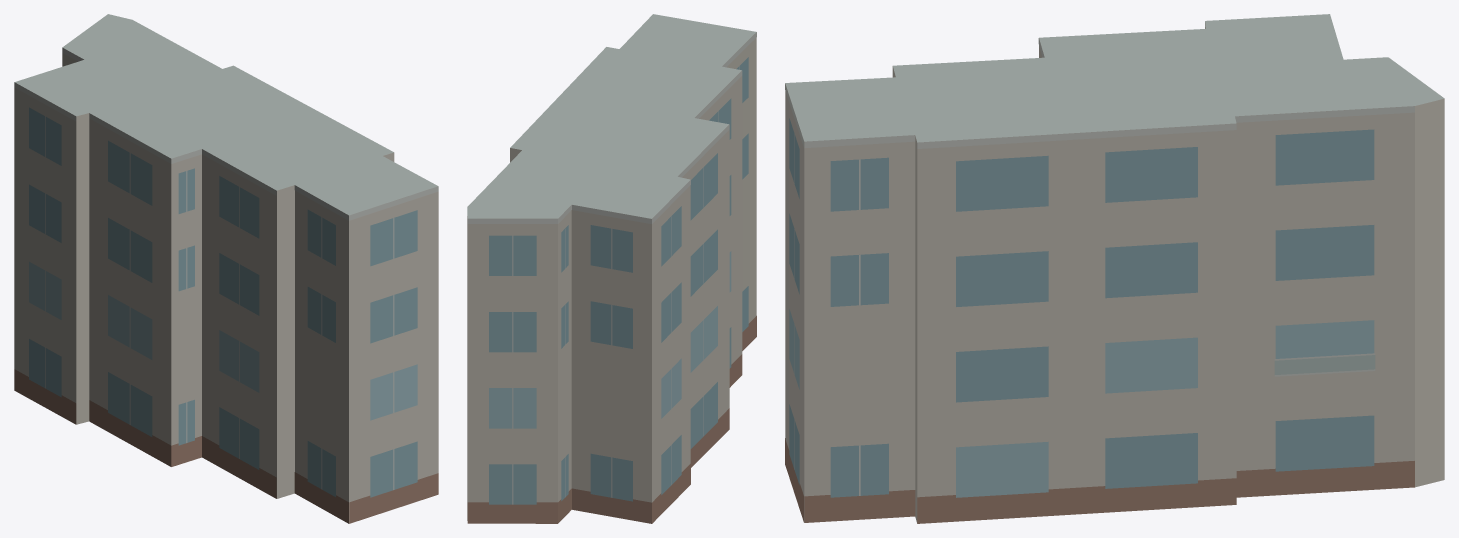
The model's file is survey-upis-32475550.glb.
The picture shows the model from 3 angles, left to right: view 1: azimuth 30°, elevation 25°; view 2: azimuth 150°, elevation 25°; view 3: azimuth 270°, elevation 25°; orthographic projection. The views are drawn at different scales.
Parts seen in each view (by area): view 1: survey-upis-32475550.tmp; view 2: survey-upis-32475550.tmp; view 3: survey-upis-32475550.tmp.
Boxes of the visible parts, x1,y1,x2,y2 form: survey-upis-32475550.tmp: (14,14,438,523); survey-upis-32475550.tmp: (467,14,756,523); survey-upis-32475550.tmp: (785,14,1444,523).
Size of the model in its own units: 10.2 by 14.1 by 22.11.
